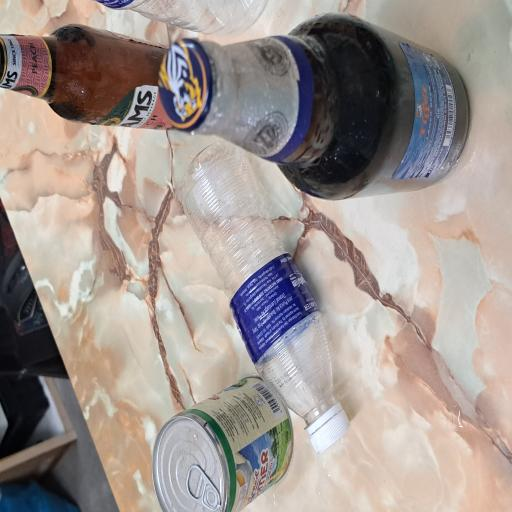can: (0, 201, 103, 391)
glass bottle: (233, 211, 374, 512), (285, 0, 366, 228)
plastic bottle: (67, 234, 278, 449)
plastic bottle cap: (44, 413, 80, 468)
pop tab: (0, 246, 36, 298)
